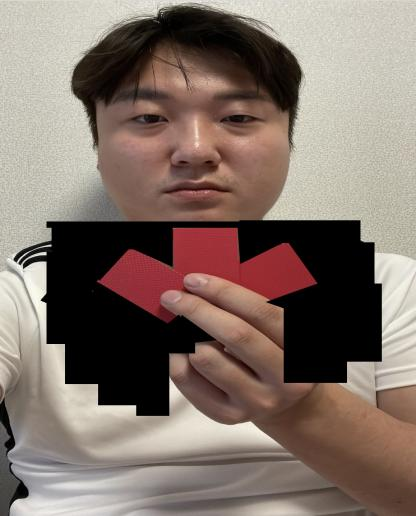ThreeHwatoo: (92, 227, 334, 322)
